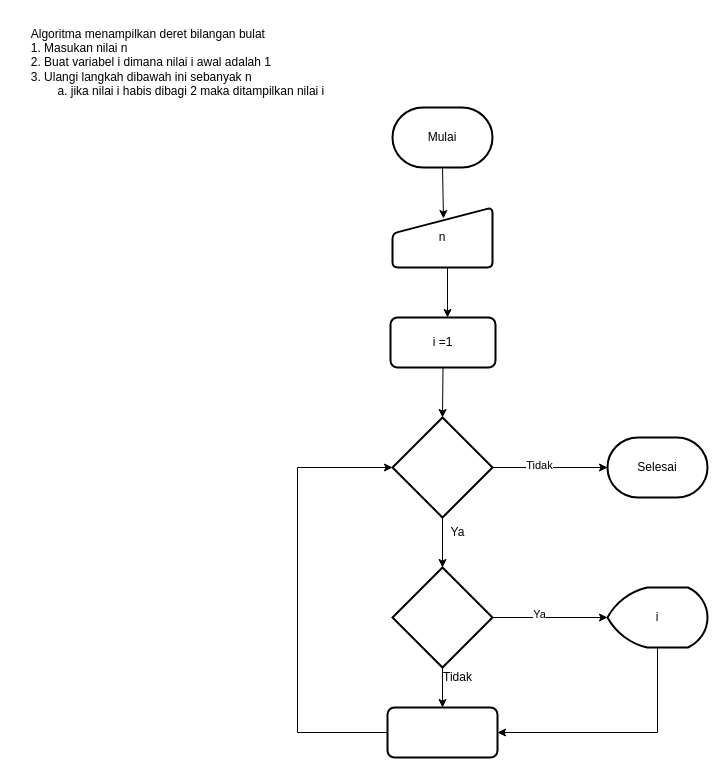
Some shapes in this 725 by 775 pixel diagram are drawn without their labels. Here are the shapes that lost their labels. From the top down, the box of each, then its label:
(391, 416, 493, 518): i <= 2*n
(391, 566, 493, 668): i mod 2 == 0
(386, 706, 498, 758): i = i + 1
